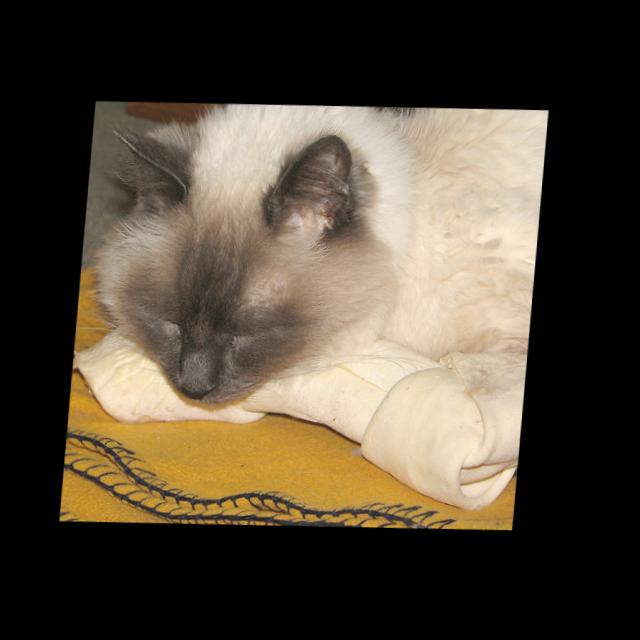animals: (94, 128, 336, 404)
